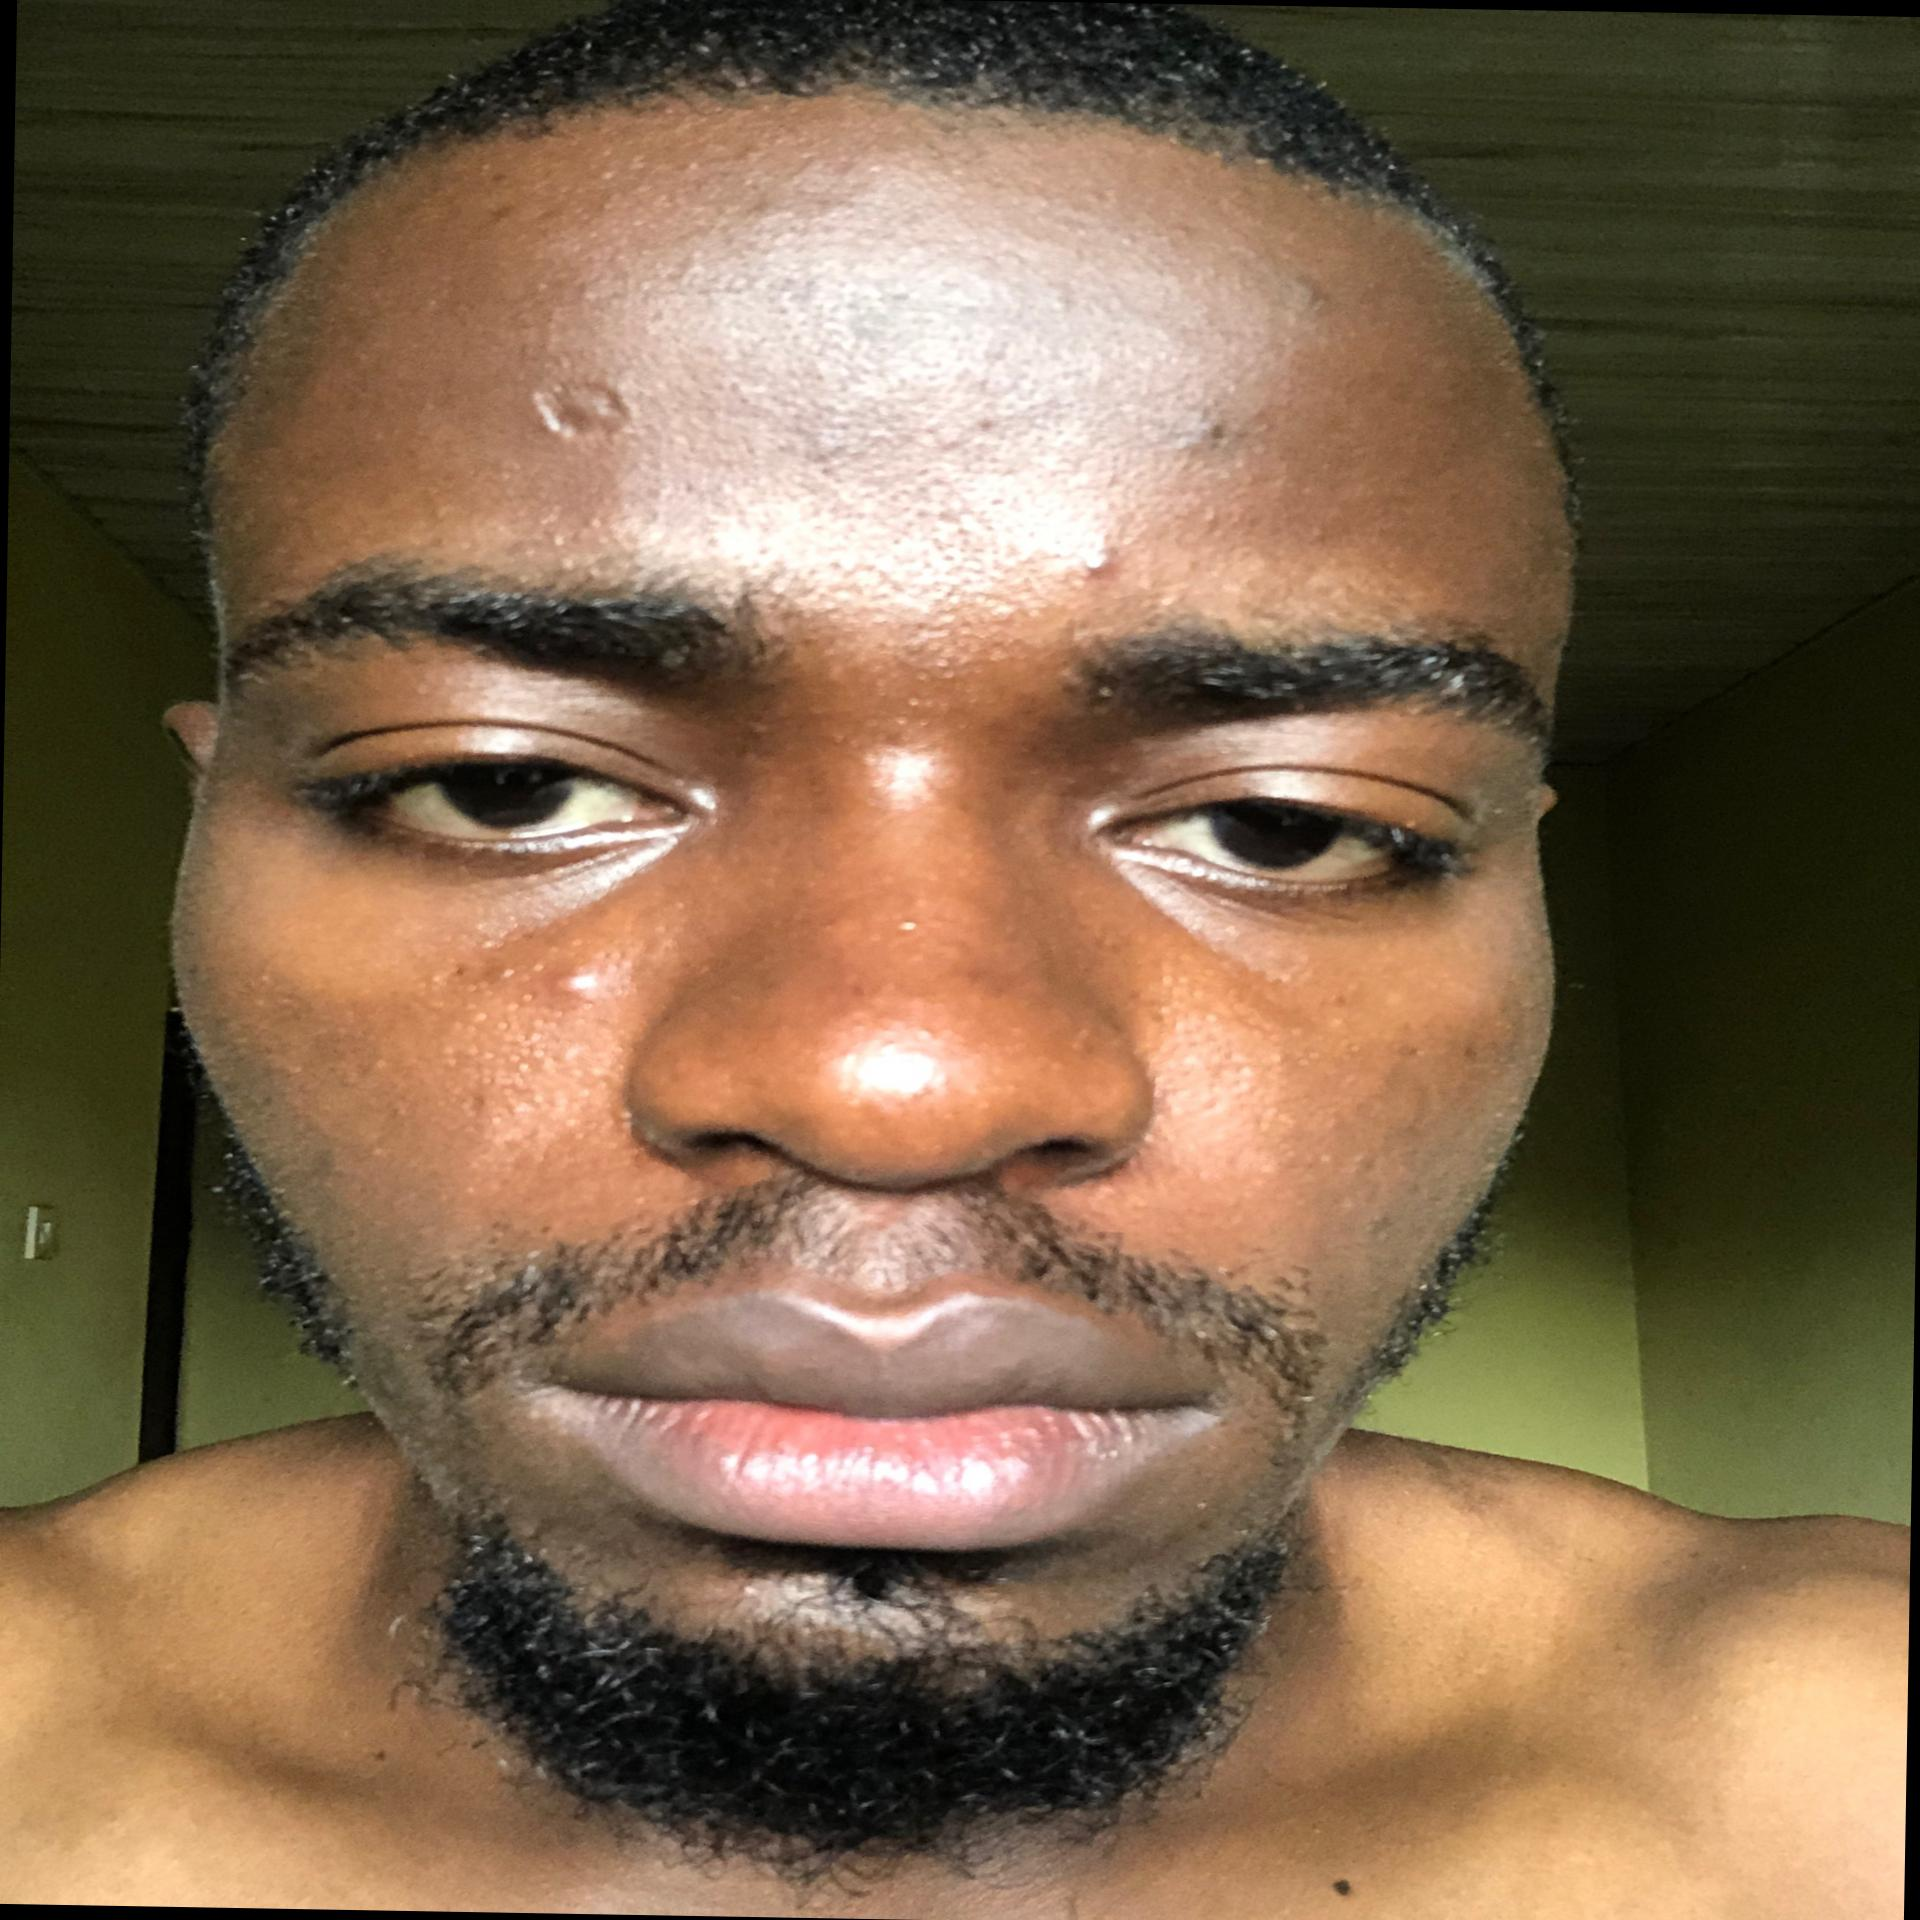Acne: (1275, 274, 1349, 327), (547, 958, 612, 1006), (1190, 404, 1243, 459), (1067, 536, 1125, 585)
Blackhead: (1338, 1118, 1449, 1248)
Englarged Pores: (1134, 971, 1298, 1159), (455, 965, 619, 1145)
